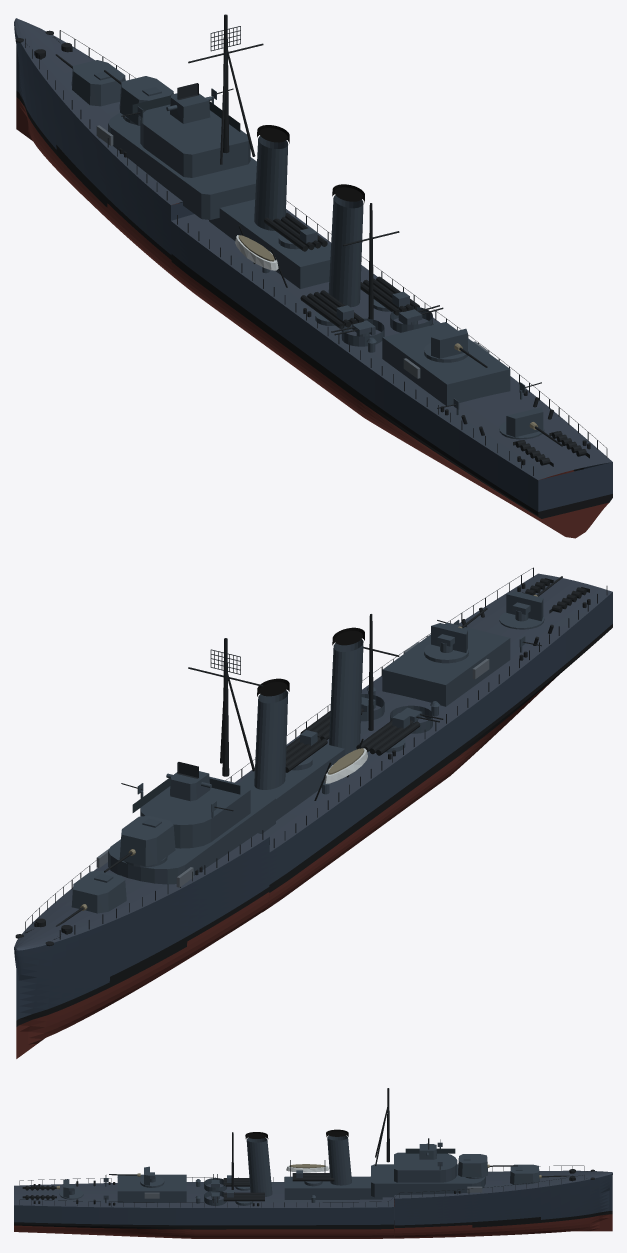
Rendered from mahan.glb.
3 renders of one model, top to bottom at view 1: azimuth 30°, elevation 25°; view 2: azimuth 150°, elevation 25°; view 3: azimuth 270°, elevation 25°, orthographic. The views are drawn at different scales.
Visible parts, largest first — view 1: Hull, Mount51, Mount52, Torpedo3, Torpedo1, Director, Mount53, Torpedo2, Mount54; view 2: Hull, Mount52, Mount51, Mount53, Mount54, Torpedo3, Director, Torpedo1; view 3: Hull, Mount52, Mount51, Torpedo2, Torpedo1, Mount53, Mount54, Director, Torpedo3.
Part boxes in pixels (<box>): Hull: <box>14,14,612,538</box>; Mount51: <box>55,54,125,106</box>; Mount52: <box>104,70,173,125</box>; Torpedo3: <box>300,290,364,329</box>; Torpedo1: <box>264,212,327,251</box>; Director: <box>166,83,211,123</box>; Mount53: <box>424,328,487,367</box>; Torpedo2: <box>360,276,419,315</box>; Mount54: <box>499,407,562,446</box>; Hull: <box>14,567,612,1058</box>; Mount52: <box>104,815,175,872</box>; Mount51: <box>56,870,126,926</box>; Mount53: <box>424,608,487,663</box>; Mount54: <box>499,576,562,629</box>; Torpedo3: <box>356,713,420,755</box>; Director: <box>166,762,211,801</box>; Torpedo1: <box>285,730,327,772</box>; Hull: <box>14,1088,612,1238</box>; Mount52: <box>458,1154,517,1178</box>; Mount51: <box>510,1164,569,1184</box>; Torpedo2: <box>223,1190,264,1205</box>; Torpedo1: <box>292,1170,334,1186</box>; Mount53: <box>109,1166,164,1187</box>; Mount54: <box>28,1179,83,1199</box>; Director: <box>419,1138,436,1159</box>; Torpedo3: <box>223,1175,250,1190</box>.
Bounding box in the file's own units: 12 × 27.4 × 104.
